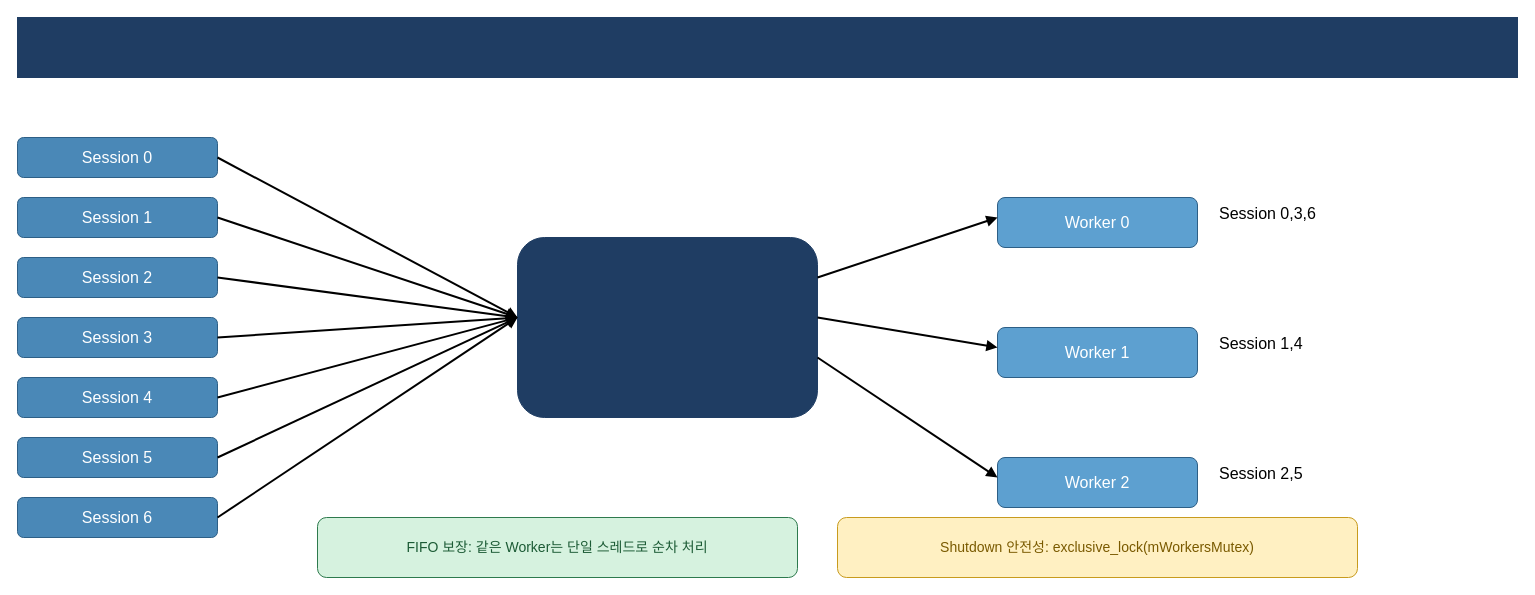
The diagram is 1535 pixels wide and 595 high, and some of its shapes have lost their labels. Each missing label, with the box of its shape:
KeyedDispatcher Dispatch(key, task) worker_idx = session_id % worker_count: (516, 236, 818, 418)
KeyedDispatcher — Session Affinity Routing: (16, 16, 1518, 78)
